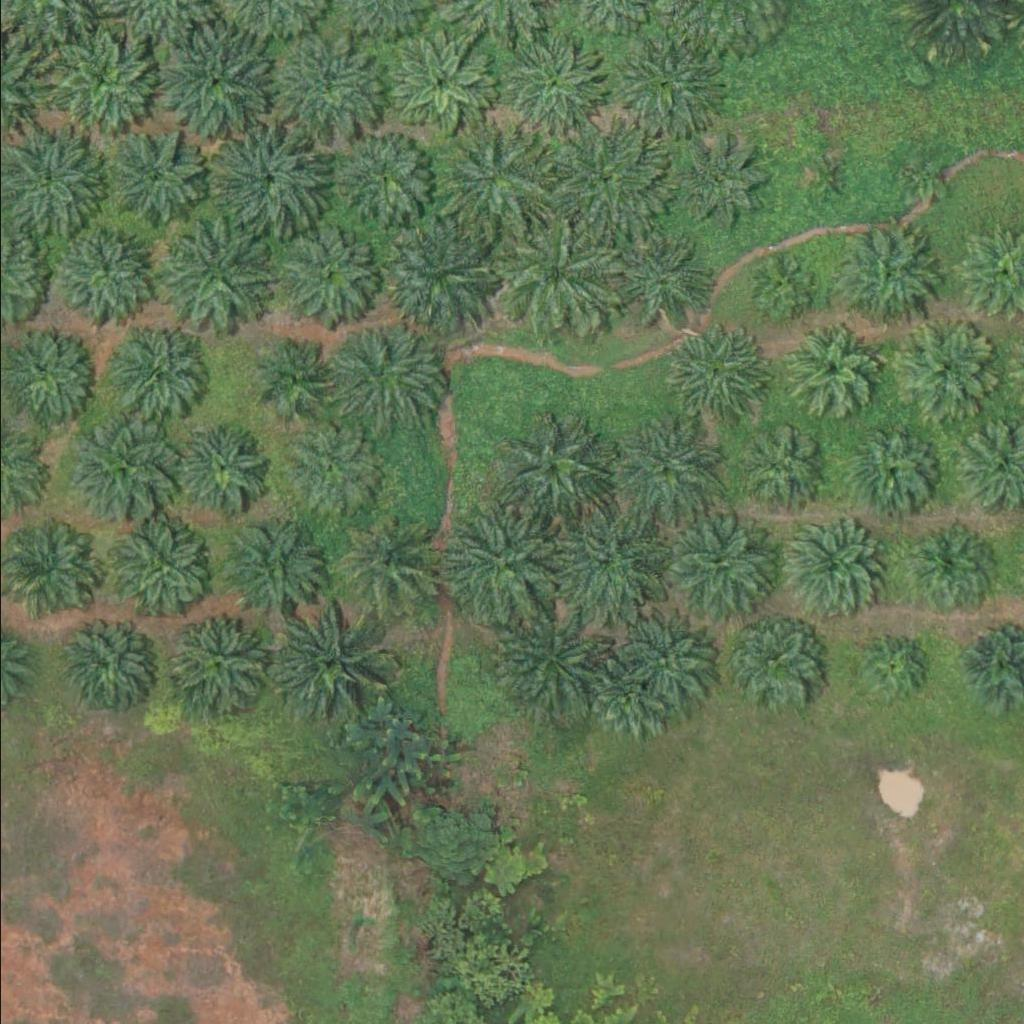Kelapa_Sawit: (499, 215, 613, 328), (325, 319, 439, 432), (104, 511, 218, 624), (65, 409, 179, 522), (657, 511, 770, 624), (272, 33, 385, 146), (162, 25, 275, 138), (546, 504, 659, 617), (484, 606, 597, 719), (41, 27, 154, 140), (614, 24, 728, 136), (499, 28, 613, 140), (547, 123, 661, 235), (439, 120, 553, 232), (386, 220, 500, 332), (271, 217, 385, 329), (269, 609, 382, 721), (660, 125, 773, 237), (219, 121, 332, 233), (154, 219, 267, 331), (495, 413, 608, 525), (442, 509, 555, 621), (211, 514, 324, 626), (891, 316, 992, 416), (333, 519, 434, 619), (784, 518, 885, 618), (610, 419, 711, 519), (783, 319, 884, 419), (665, 321, 766, 421), (834, 228, 935, 328), (393, 32, 494, 132), (102, 127, 203, 227), (606, 227, 707, 327), (167, 613, 268, 713), (54, 224, 155, 324), (337, 128, 437, 228), (104, 317, 204, 417), (281, 419, 381, 519), (169, 416, 269, 516), (54, 615, 154, 715), (732, 423, 821, 511), (848, 429, 936, 517), (727, 622, 815, 709), (902, 524, 990, 611), (620, 615, 708, 702), (580, 650, 668, 737), (259, 340, 335, 415), (859, 638, 922, 701), (749, 255, 812, 318), (900, 161, 938, 198), (809, 157, 847, 194)
